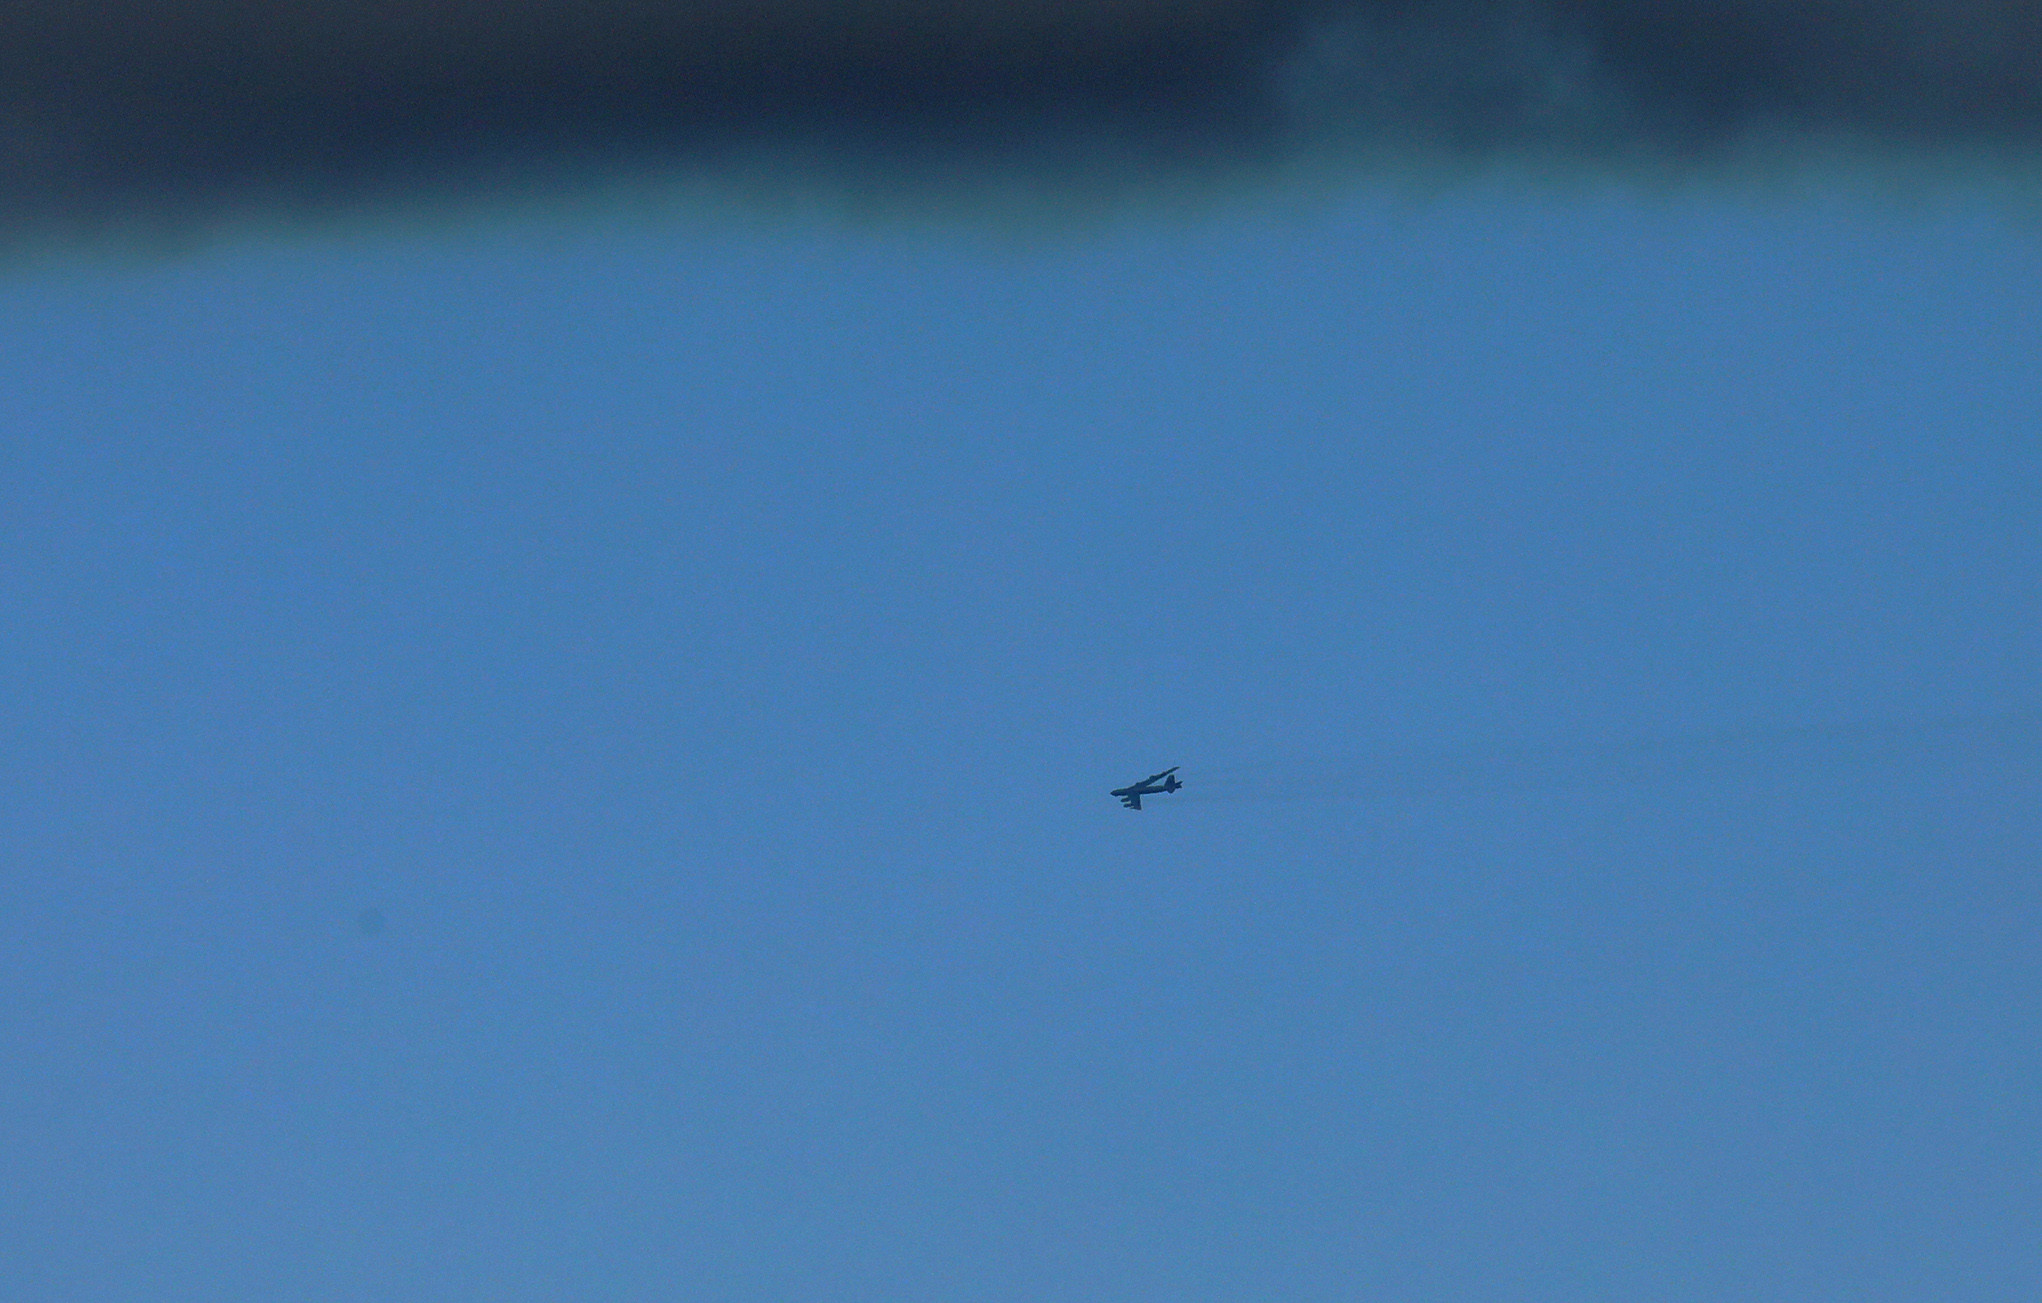B52: (1109, 765, 1185, 812)
